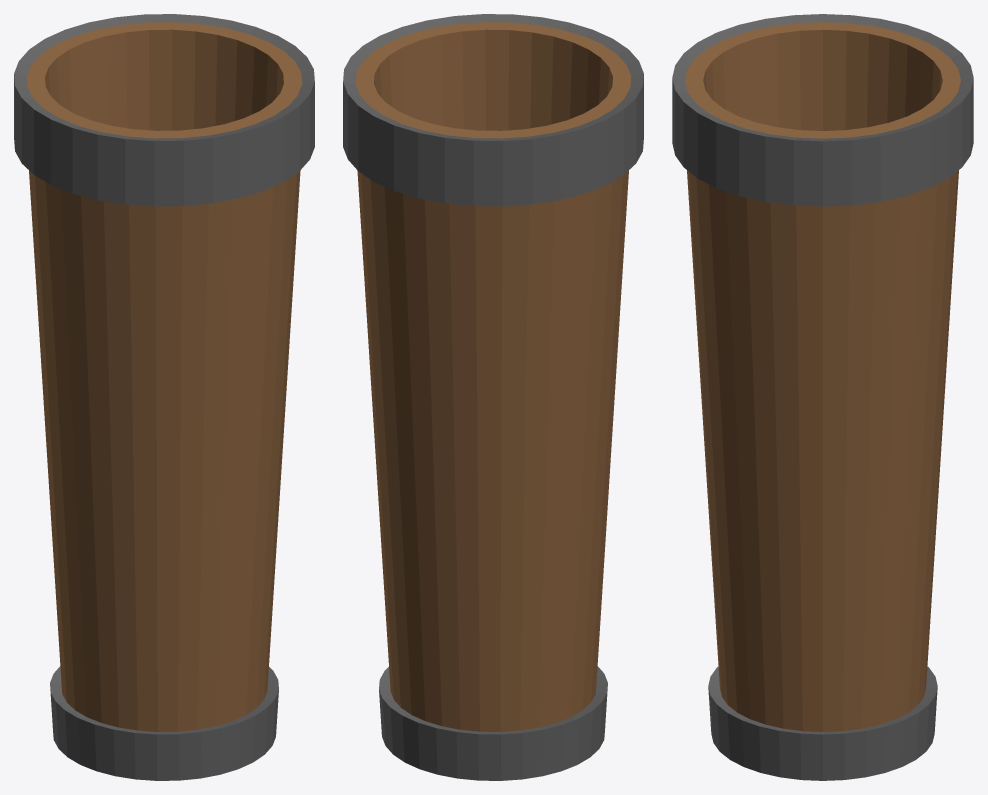
Rendered from Kolchan.dae.
3 views of the same model, side by side, from view 1: azimuth 30°, elevation 25°; view 2: azimuth 150°, elevation 25°; view 3: azimuth 270°, elevation 25° (orthographic).
Parts seen in each view (by area): view 1: Cylinder; view 2: Cylinder; view 3: Cylinder.
Boxes of the visible parts, x1,y1,x2,y2 form: Cylinder: (14,14,314,780); Cylinder: (343,14,643,780); Cylinder: (672,14,973,780).
Bounding box in the file's own units: 4.32 × 4.32 × 10.38.
1 material, 1 textured.
